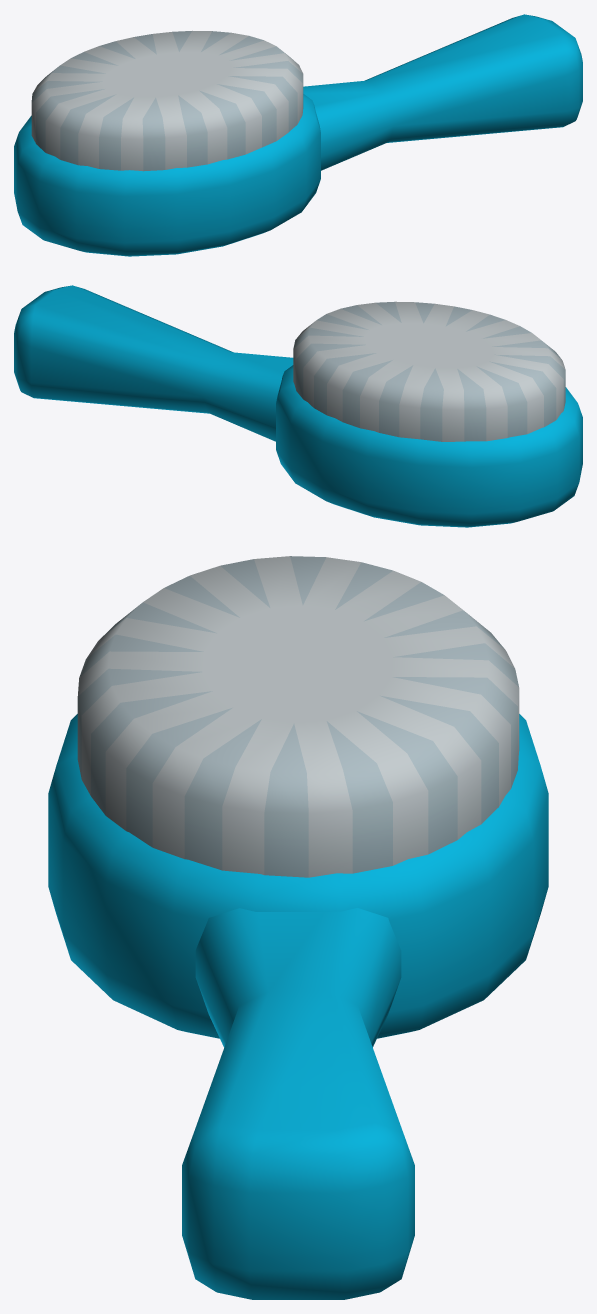
Rendered from Brush_001.fbx.
3 renders of one model, top to bottom at view 1: azimuth 30°, elevation 25°; view 2: azimuth 150°, elevation 25°; view 3: azimuth 270°, elevation 25°, orthographic. The views are drawn at different scales.
Visible parts, largest first — view 1: Brush_001; view 2: Brush_001; view 3: Brush_001.
Part boxes in pixels (x1,y1,x2,y2): Brush_001: (14,14,582,256); Brush_001: (14,285,582,527); Brush_001: (48,556,548,1299).
Bounding box in the file's own units: 20.83 × 8.35 × 4.82.
